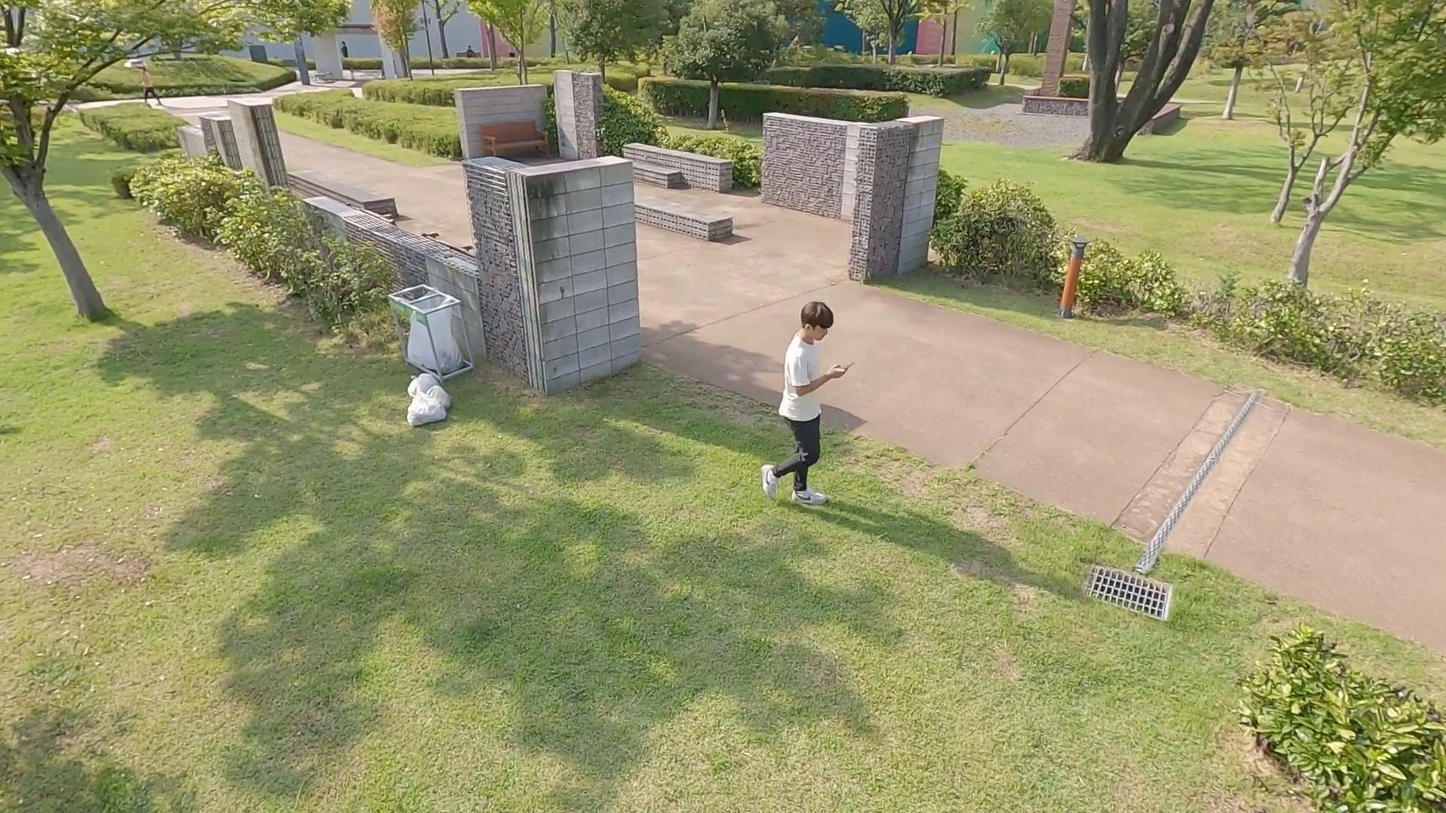person: (758, 295, 855, 510)
trash: (403, 389, 449, 429), (416, 379, 450, 409), (406, 372, 440, 401)
